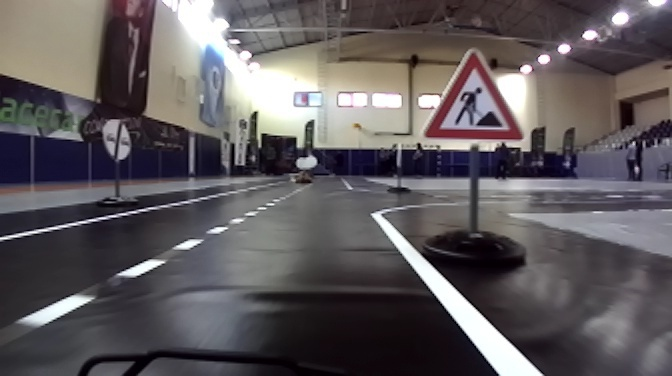yol_yapimi: (409, 42, 526, 147)
